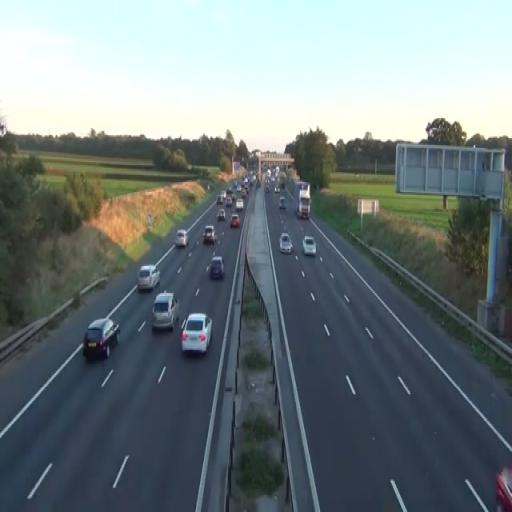Car: (82, 317, 120, 361), (180, 313, 213, 355), (150, 291, 180, 332), (136, 264, 160, 292), (210, 256, 225, 280), (279, 232, 294, 254), (302, 235, 316, 257), (203, 224, 216, 244), (175, 229, 189, 247), (230, 214, 240, 228), (216, 208, 226, 222)
Truck: (296, 182, 311, 219)
